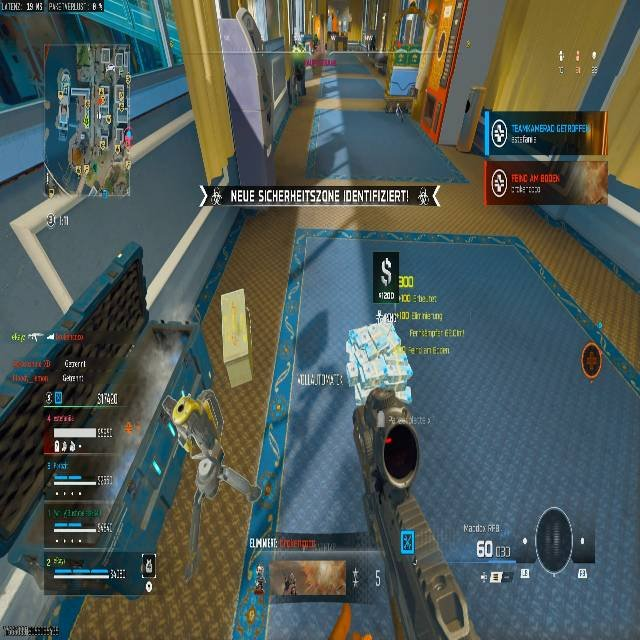player: (284, 570, 296, 595)
